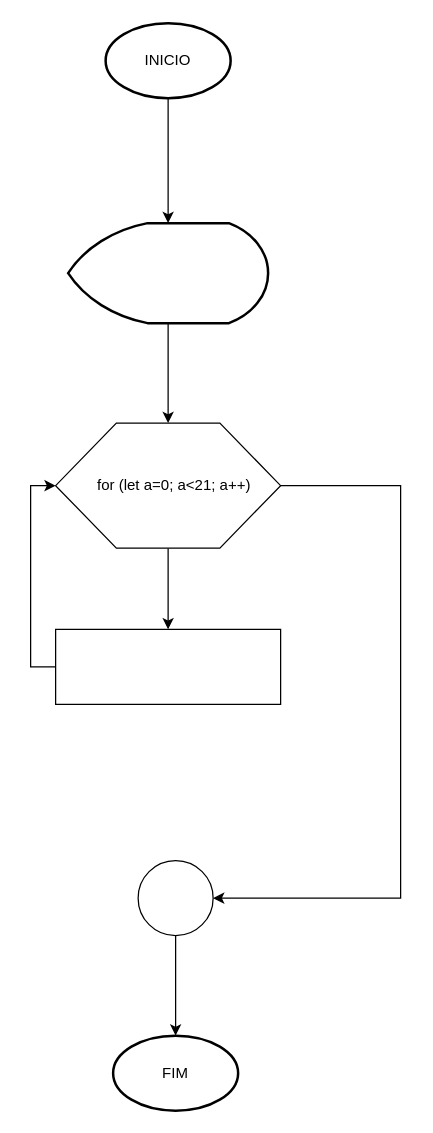
The diagram is 433 pixels wide and 1133 high, and some of its shapes have lost their labels. The centre of each missing label's shape, as x and y in pixels:
"1/" + a + "<br>": [167,666]
Atividade 1: [167,272]
